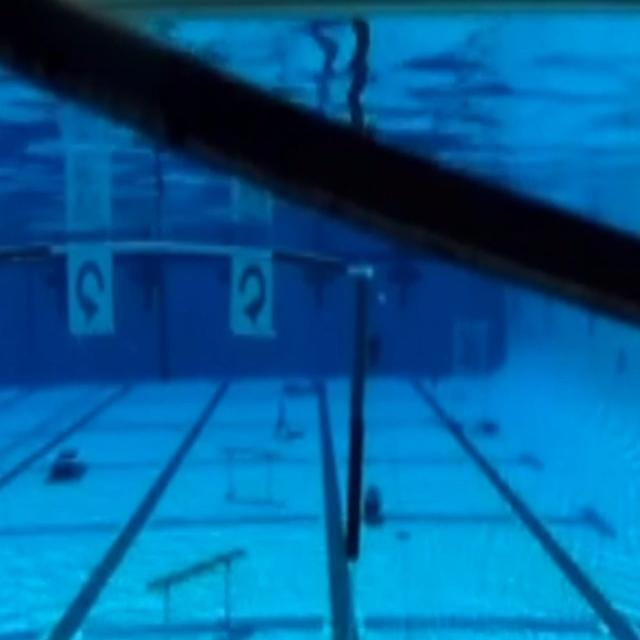Gate: (0, 224, 390, 594)
